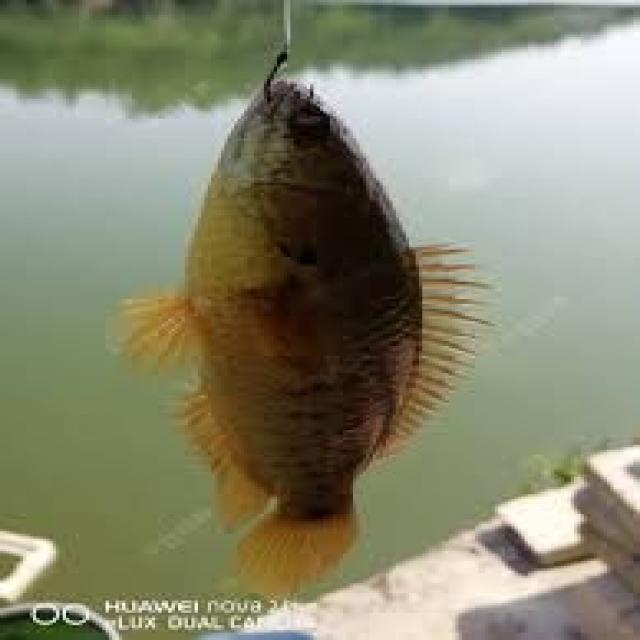Climbing-Perch: (152, 64, 486, 602)
